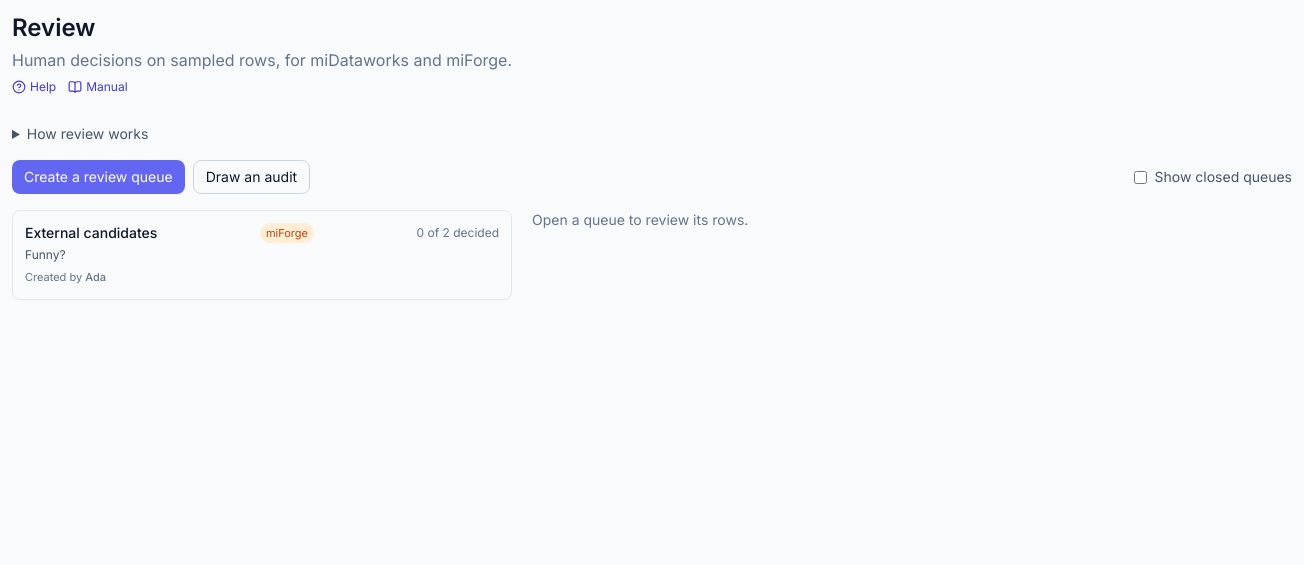
ReviewPanel keyboard and decisions › j and k move between rows
Expected: the text "miForge" is shown, [260, 223, 314, 243]
Click the button with test id "queue-card" at (91, 232), box [12, 210, 512, 300]
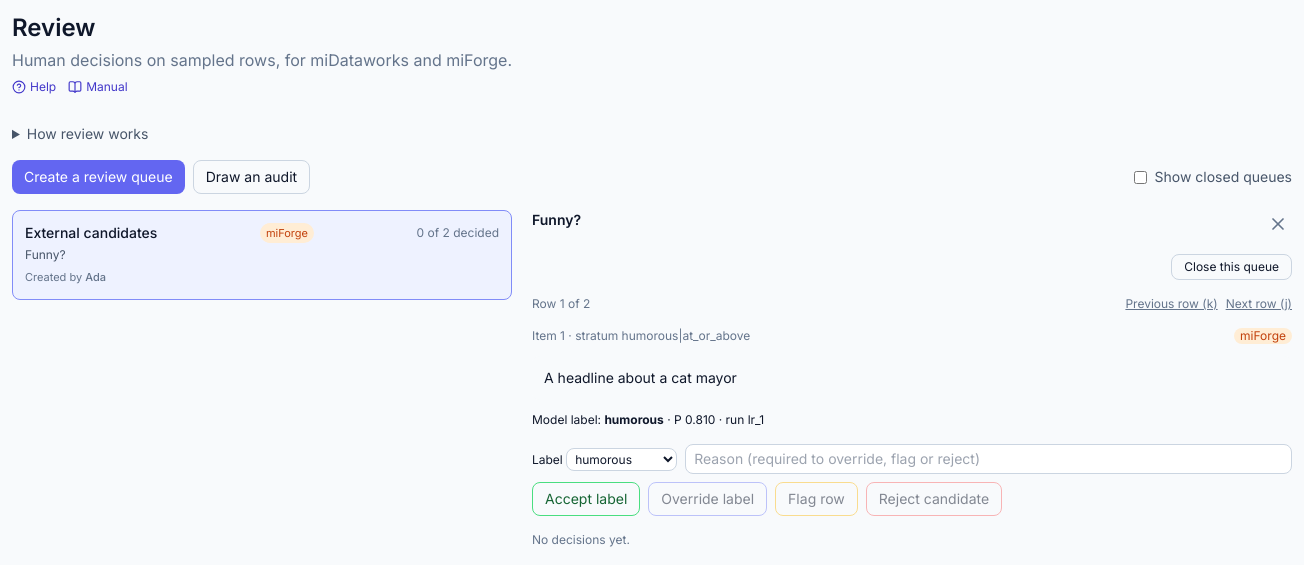
Expected: the element with test id "item-view" is shown, [532, 328, 1292, 428]
Press j in the element with test id "review-panel"
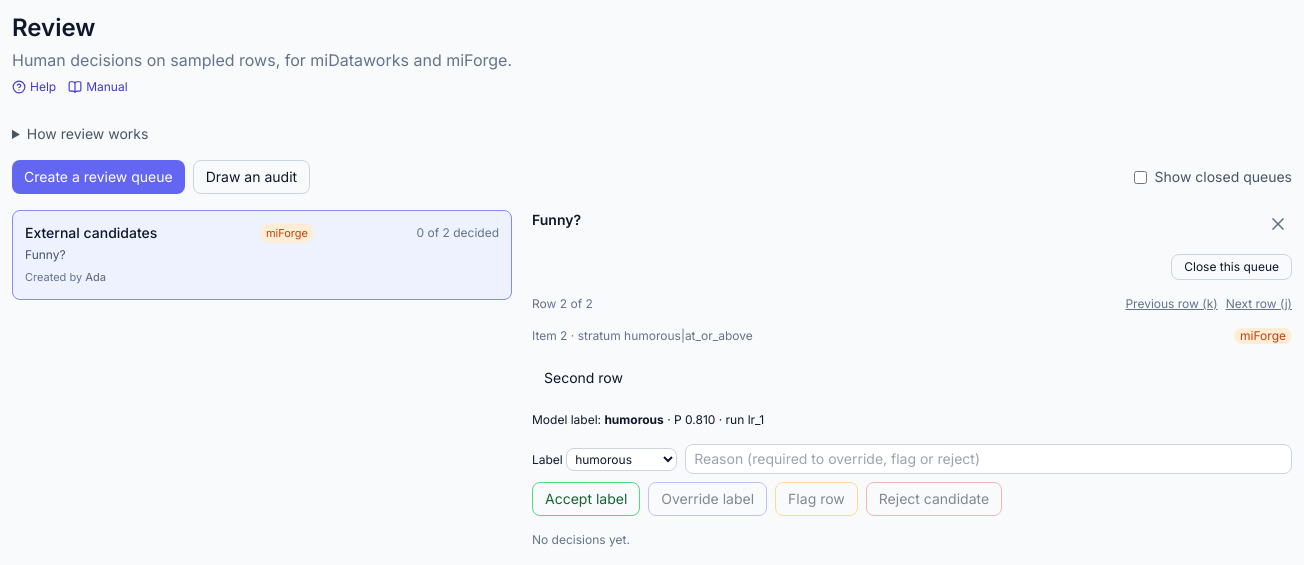
Expected: the text with test id "item-text" reads "Second row", [544, 369, 623, 386]
Press k in the element with test id "review-panel"
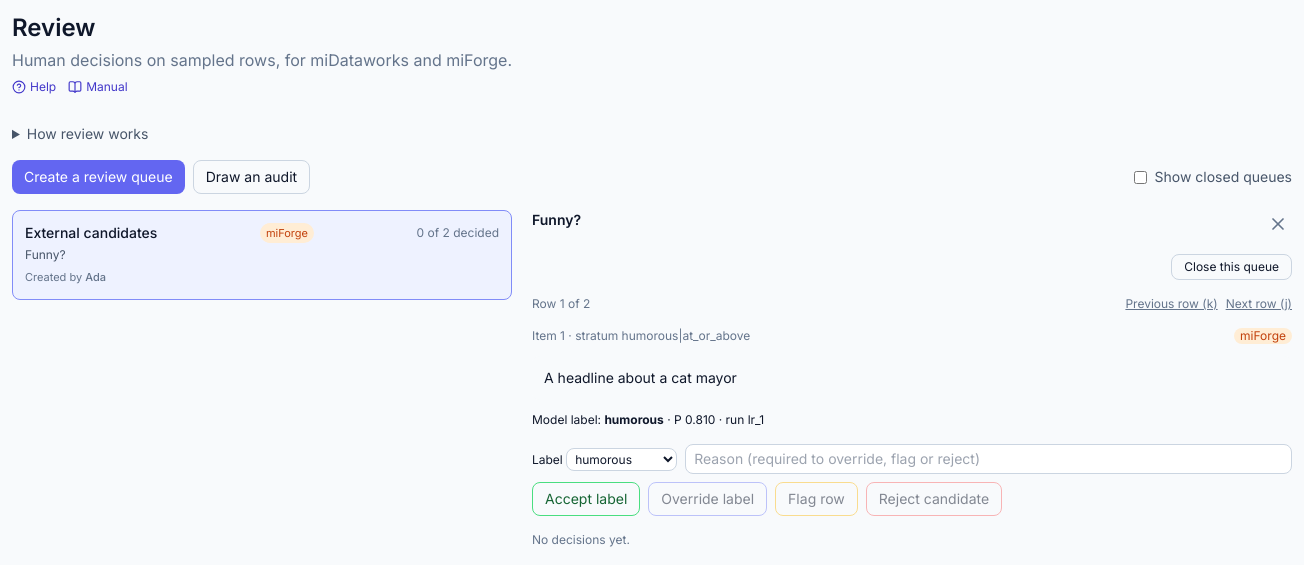
Expected: the text with test id "item-text" shows "cat mayor", [544, 369, 737, 386]
